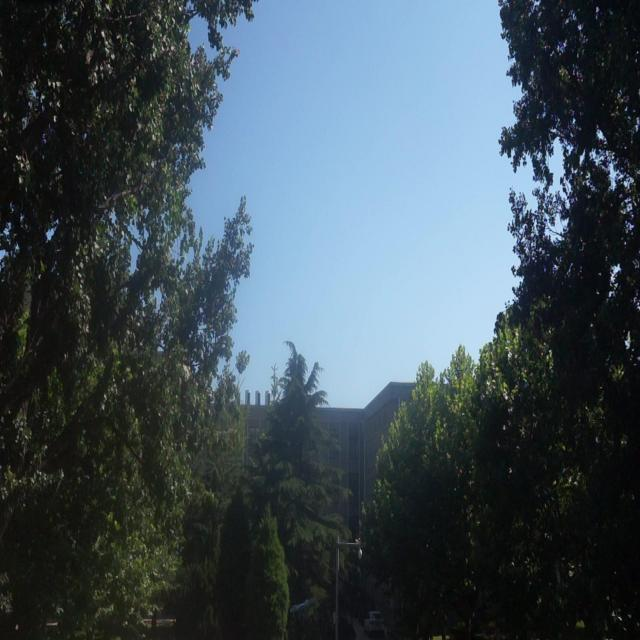UAV: (290, 598, 314, 619)
